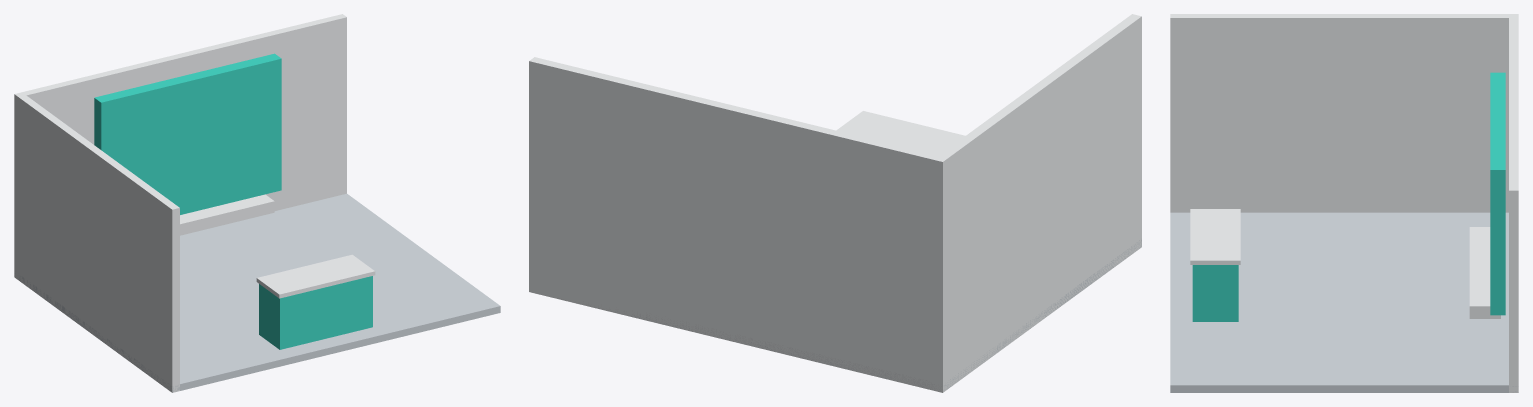
3 renders of one model, left to right at view 1: azimuth 30°, elevation 25°; view 2: azimuth 150°, elevation 25°; view 3: azimuth 270°, elevation 25°, orthographic. The views are drawn at different scales.
Parts seen in each view (by area): view 1: Exhibition Booth Concept; view 2: Exhibition Booth Concept; view 3: Exhibition Booth Concept.
Boxes of the visible parts, bbox=[...] form: Exhibition Booth Concept: bbox=[14, 14, 500, 392]; Exhibition Booth Concept: bbox=[529, 14, 1141, 392]; Exhibition Booth Concept: bbox=[1170, 14, 1518, 392].
Size of the model in its own units: 6 by 3.2 by 5.
